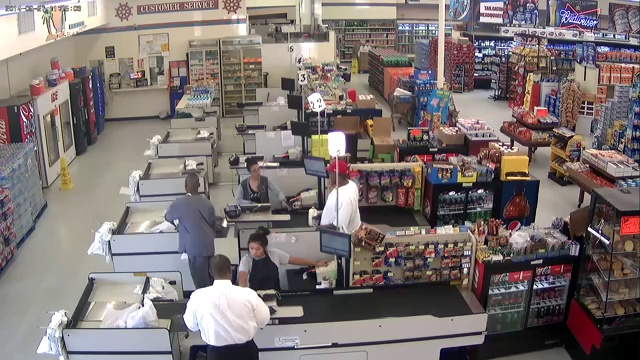face: (248, 243, 263, 258), (248, 165, 261, 177)
